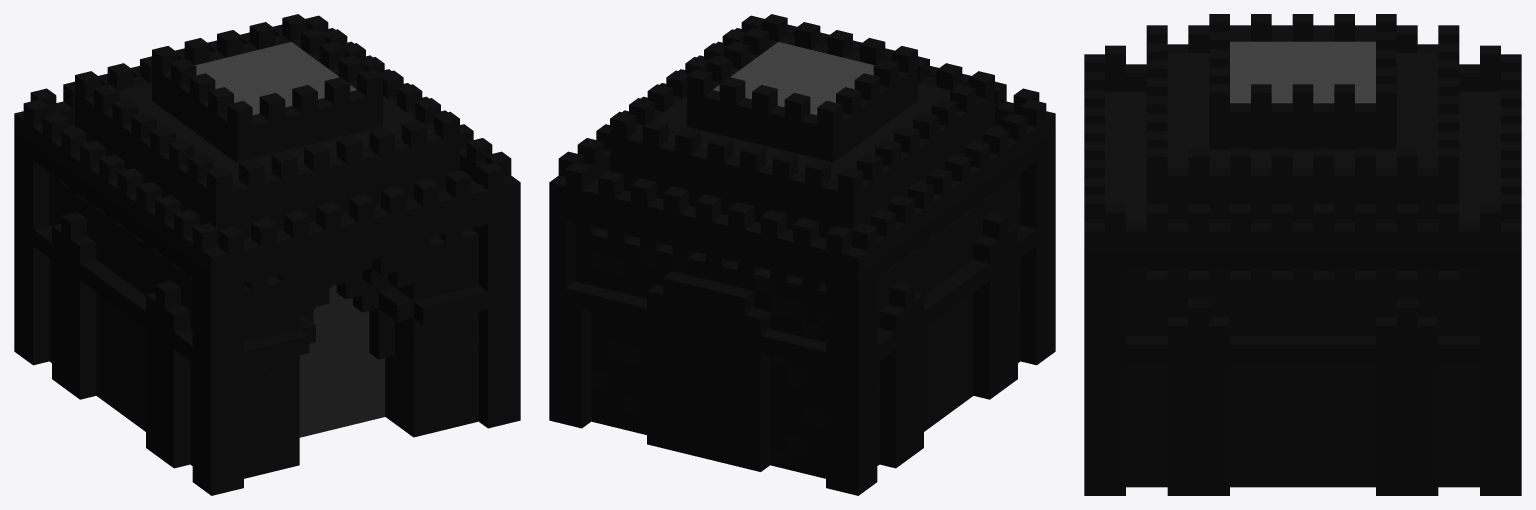
The model's file is castle.obj.
3 renders of one model, left to right at view 1: azimuth 30°, elevation 25°; view 2: azimuth 150°, elevation 25°; view 3: azimuth 270°, elevation 25°, orthographic. The views are drawn at different scales.
Bounding box in the file's own units: 1.9 × 1.9 × 2.1.
